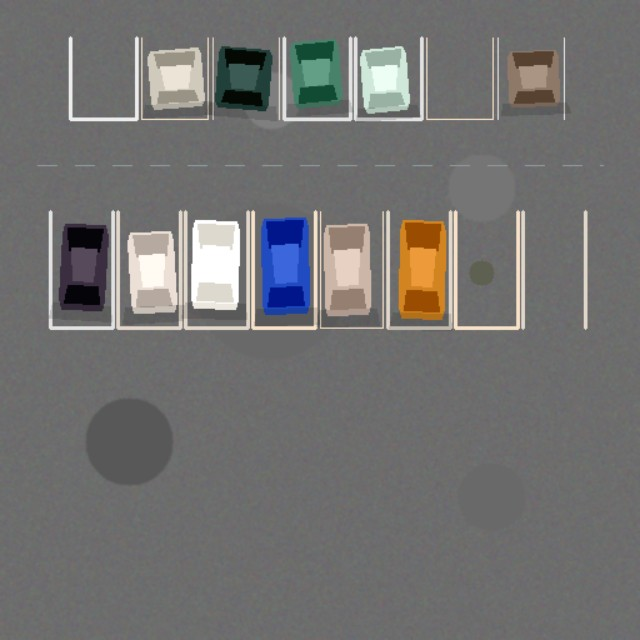space-empty: (455, 211, 518, 327), (522, 211, 585, 327), (70, 37, 136, 119), (426, 37, 492, 119)
space-occupied: (185, 211, 248, 327), (252, 211, 315, 327), (50, 211, 112, 327), (118, 211, 180, 327), (320, 211, 382, 327), (388, 211, 450, 327), (141, 37, 208, 119), (212, 37, 279, 119), (284, 37, 350, 119), (355, 37, 421, 119), (498, 37, 564, 119)
